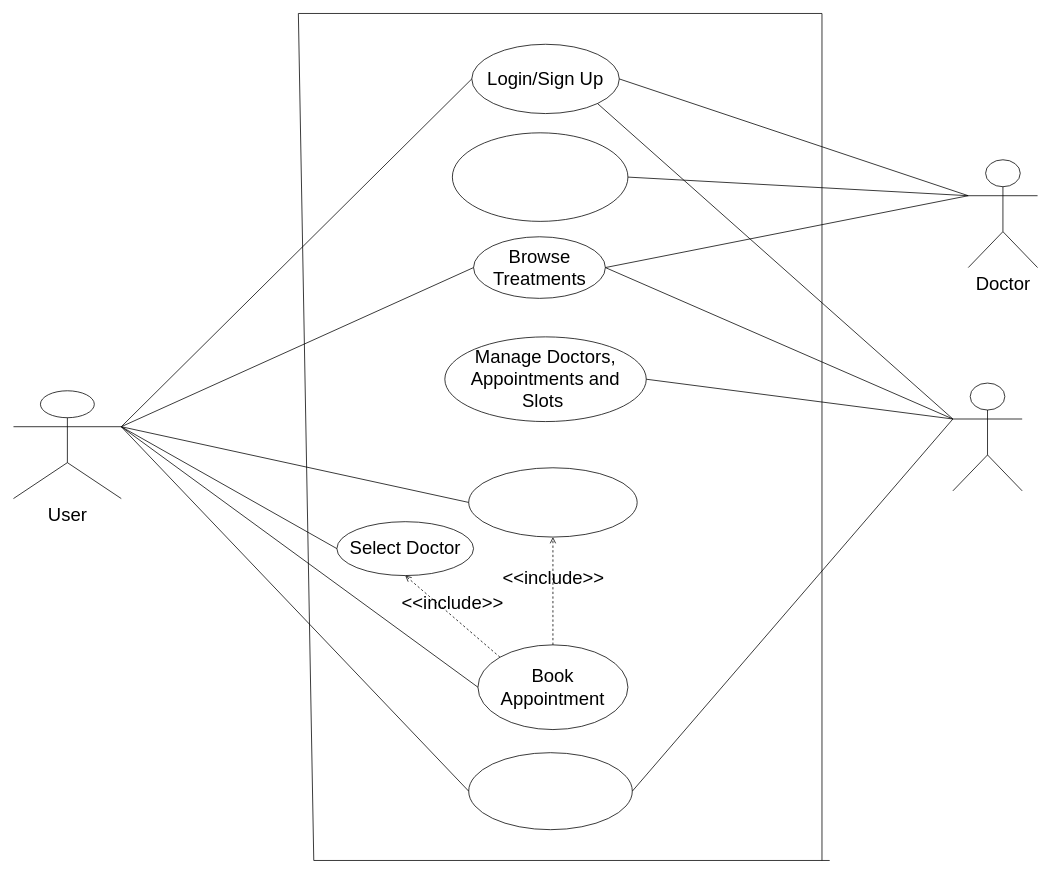
Some shapes in this 1051 by 875 pixel diagram are drawn without their labels. Here are the shapes that lost their labels. From the top down, the centre of each, then its label:
At point 540,176: "Add and view own Appointments".
At point 987,436: "Admin".
At point 552,502: "Select Schedule".
At point 550,791: "Receive Email Notification".
